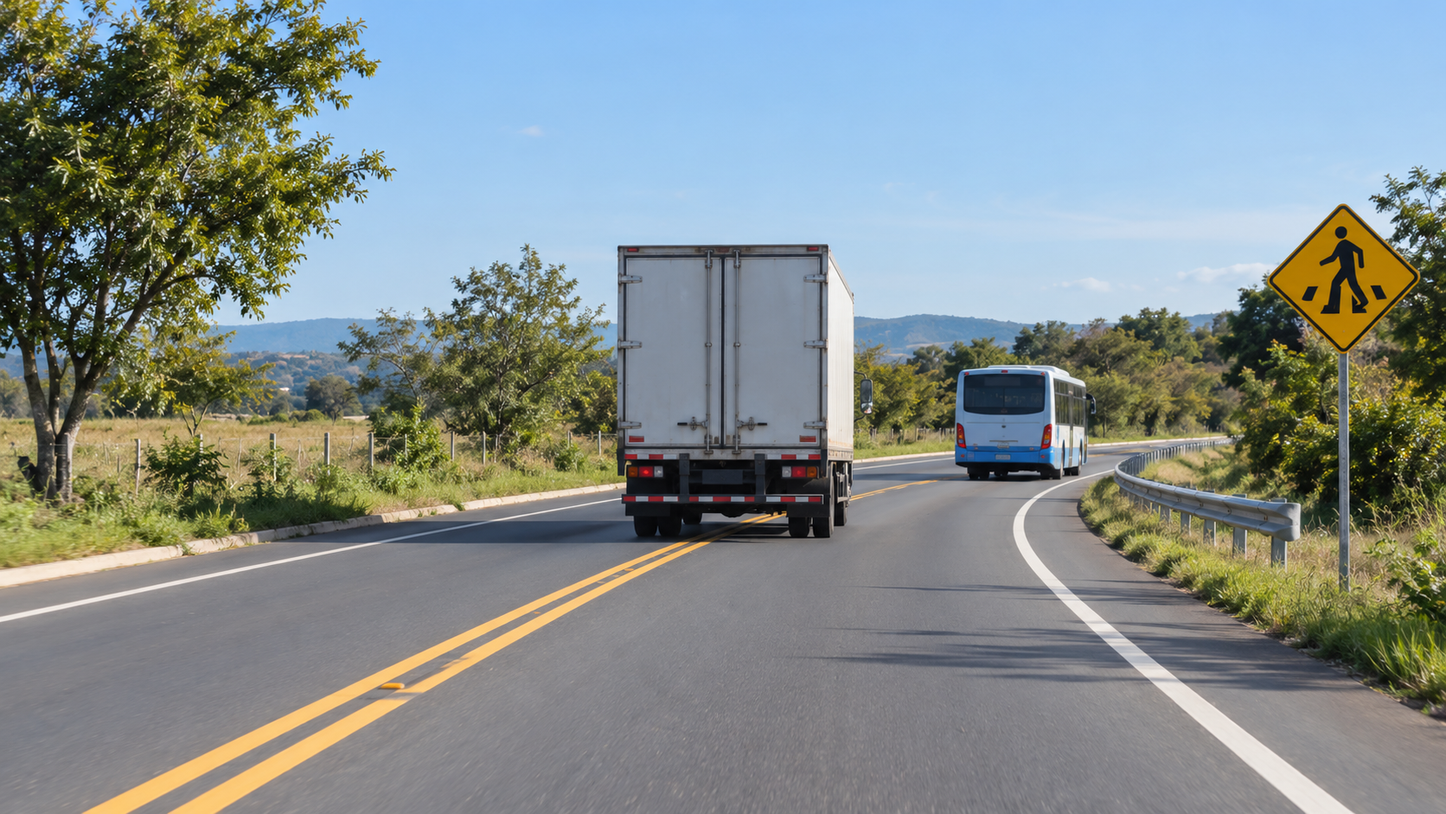bus: (954, 364, 1097, 480)
crossing_warning_sign: (1268, 203, 1421, 354)
truck: (617, 244, 855, 539)
